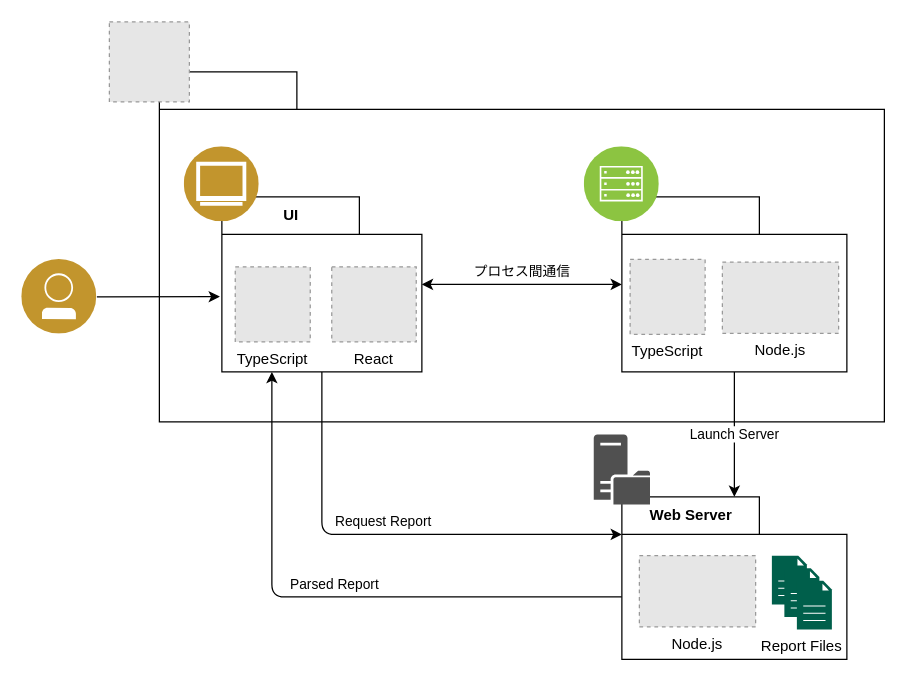
The diagram is 906 pixels wide and 681 high, and some of its shapes have lost their labels. Grey dashed boxes stand in for pictures. The box of each missing label's shape, as (x1, y1, x2, y2) in pixels:
App Server: (621, 196, 847, 372)
Electron: (158, 71, 884, 422)
User: (21, 259, 96, 334)
